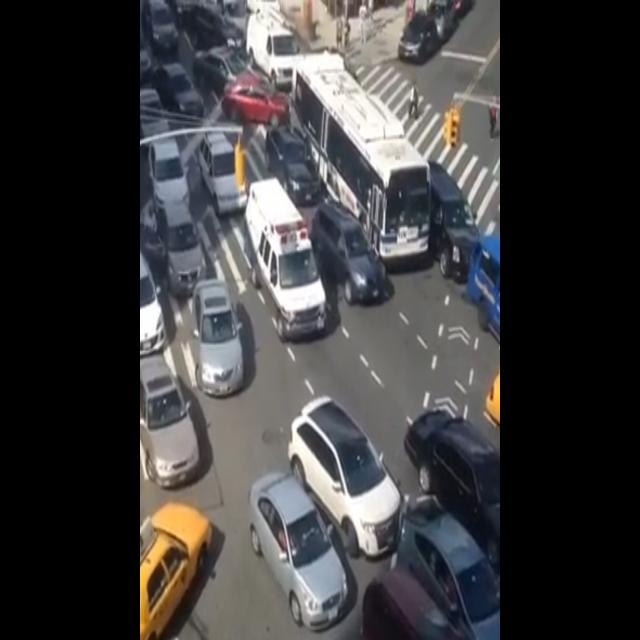Ambulance: (242, 165, 330, 353)
